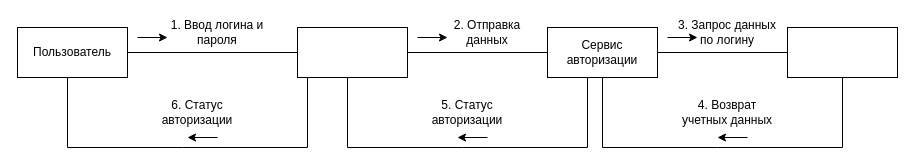
Some shapes in this 915 by 166 pixel diagram are drawn without their labels. The centre of each missing label's shape, as x and y in pixels:
"База данных" goes at pixel 842 52.
"Интерфейс" goes at pixel 352 52.
